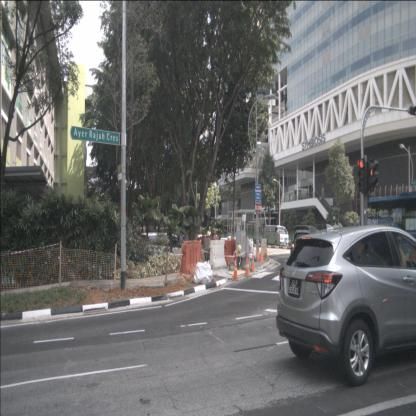barrier: (179, 240, 201, 277), (209, 238, 228, 270), (224, 238, 238, 266), (204, 236, 210, 250)
cone: (232, 258, 238, 282), (250, 252, 256, 274), (245, 257, 250, 276), (260, 247, 264, 263), (256, 248, 259, 262), (265, 246, 268, 259)
